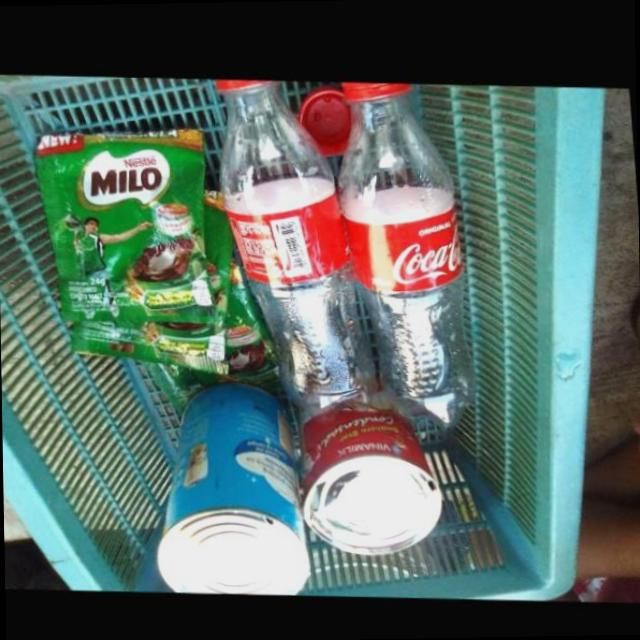chai_nhua_pet: (219, 78, 380, 419), (343, 80, 477, 426)
goi_nhua_nho: (40, 132, 218, 323), (74, 189, 237, 374), (145, 238, 285, 412)
nhom: (155, 380, 311, 594), (300, 393, 443, 553)
